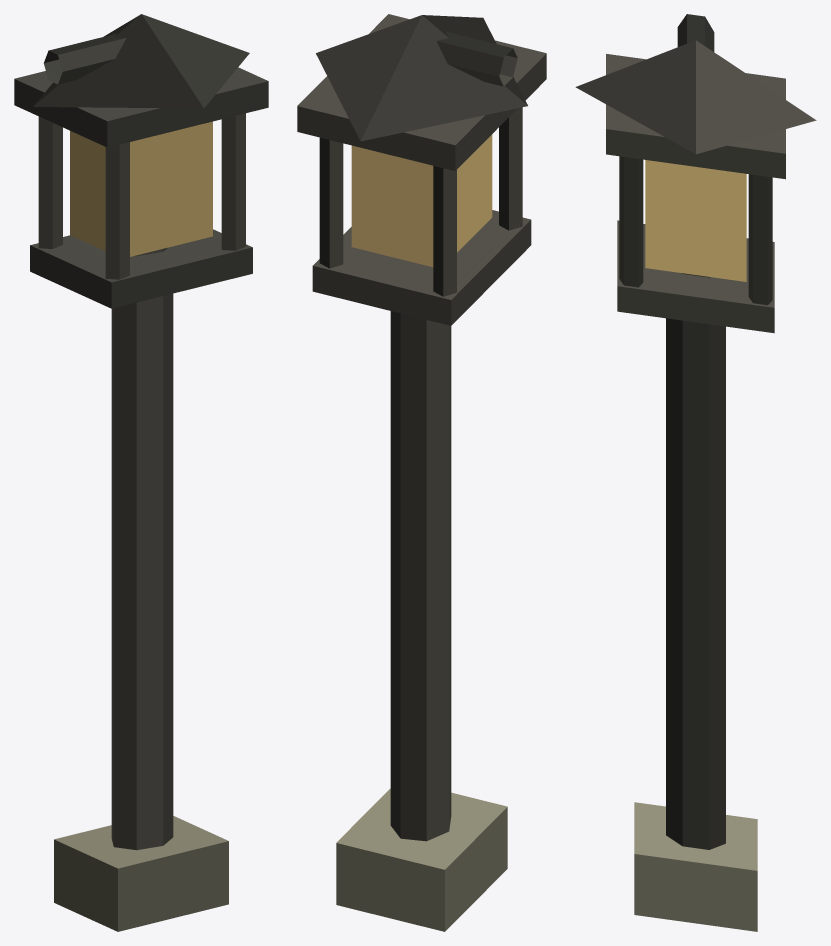
3 views of the same model, side by side, from view 1: azimuth 30°, elevation 25°; view 2: azimuth 150°, elevation 25°; view 3: azimuth 270°, elevation 25° (orthographic). The views are drawn at different scales.
Parts seen in each view (by area): view 1: ae50ad1264dc2381283ddba2aca62dc2a51d62c958e1988386d33f719ec4; view 2: ae50ad1264dc2381283ddba2aca62dc2a51d62c958e1988386d33f719ec4; view 3: ae50ad1264dc2381283ddba2aca62dc2a51d62c958e1988386d33f719ec4.
Boxes of the visible parts, x1=… form: ae50ad1264dc2381283ddba2aca62dc2a51d62c958e1988386d33f719ec4: x1=14, y1=14, x2=268, y2=931; ae50ad1264dc2381283ddba2aca62dc2a51d62c958e1988386d33f719ec4: x1=297, y1=14, x2=546, y2=931; ae50ad1264dc2381283ddba2aca62dc2a51d62c958e1988386d33f719ec4: x1=575, y1=14, x2=816, y2=931.
Size of the model in its own units: 0.86 by 3.4 by 0.86.
Materials: 2 (1 with a texture image).
